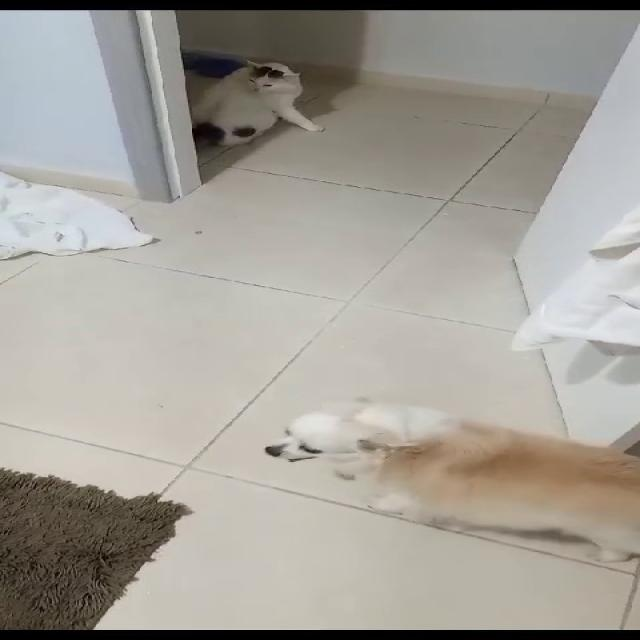Simba: (191, 46, 330, 161)
Theo: (252, 380, 638, 568)
